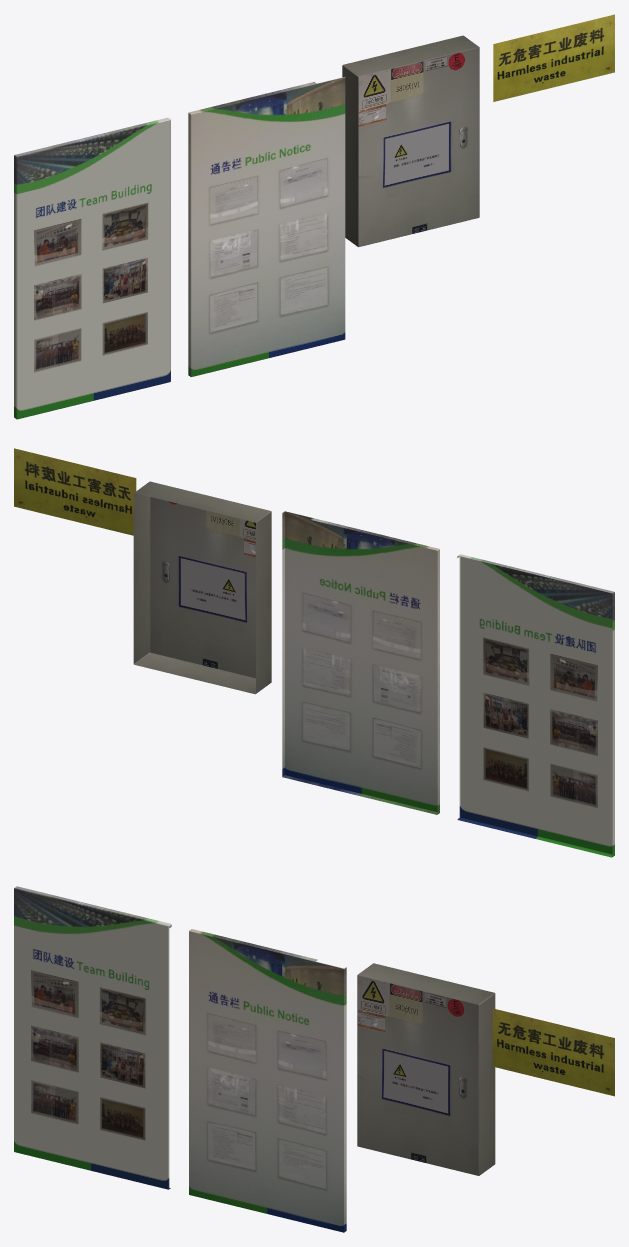
File: XuanChuanPai.FBX
3 views of the same model, one above another, from view 1: azimuth 30°, elevation 25°; view 2: azimuth 150°, elevation 25°; view 3: azimuth 330°, elevation 25° (orthographic).
Visible parts, largest first — view 1: YF_Model_XuanChuanPai_02, YF_Model_XuanChuanPai_01, YF_Model_DianXiang, YF_Model_XuanChuanPai_03; view 2: YF_Model_XuanChuanPai_02, YF_Model_XuanChuanPai_01, YF_Model_DianXiang, YF_Model_XuanChuanPai_03; view 3: YF_Model_XuanChuanPai_02, YF_Model_XuanChuanPai_01, YF_Model_DianXiang, YF_Model_XuanChuanPai_03.
Part boxes in pixels (<box>): YF_Model_XuanChuanPai_02: <box>188,75,345,376</box>; YF_Model_XuanChuanPai_01: <box>14,117,170,419</box>; YF_Model_DianXiang: <box>342,35,479,247</box>; YF_Model_XuanChuanPai_03: <box>493,14,614,101</box>; YF_Model_XuanChuanPai_02: <box>282,511,439,814</box>; YF_Model_XuanChuanPai_01: <box>457,554,614,857</box>; YF_Model_DianXiang: <box>133,481,271,694</box>; YF_Model_XuanChuanPai_03: <box>14,448,136,535</box>; YF_Model_XuanChuanPai_02: <box>189,929,346,1232</box>; YF_Model_XuanChuanPai_01: <box>14,886,171,1189</box>; YF_Model_DianXiang: <box>357,963,495,1175</box>; YF_Model_XuanChuanPai_03: <box>492,1008,614,1096</box>.
Size of the model in its own units: 95.68 by 40.18 by 4.44.
Materials: 1 (1 with a texture image).
